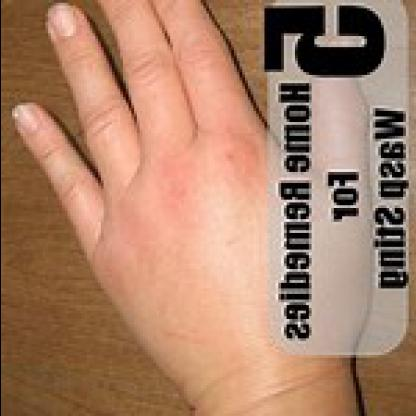Wasp: (141, 124, 264, 230)
